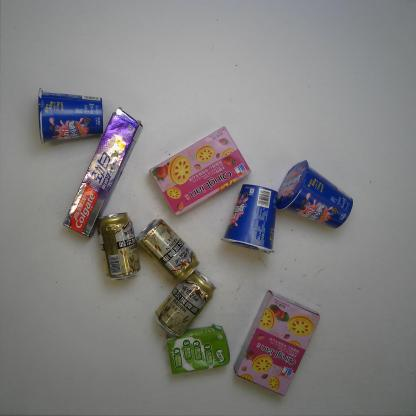Alcohol: (154, 269, 217, 339), (134, 218, 200, 284), (94, 211, 142, 280)
Dessert: (147, 124, 255, 216), (231, 289, 323, 397), (271, 158, 355, 230), (221, 182, 280, 254), (36, 88, 105, 146)
Milk: (165, 322, 231, 376)
Personal Hygiene: (62, 106, 144, 239)
